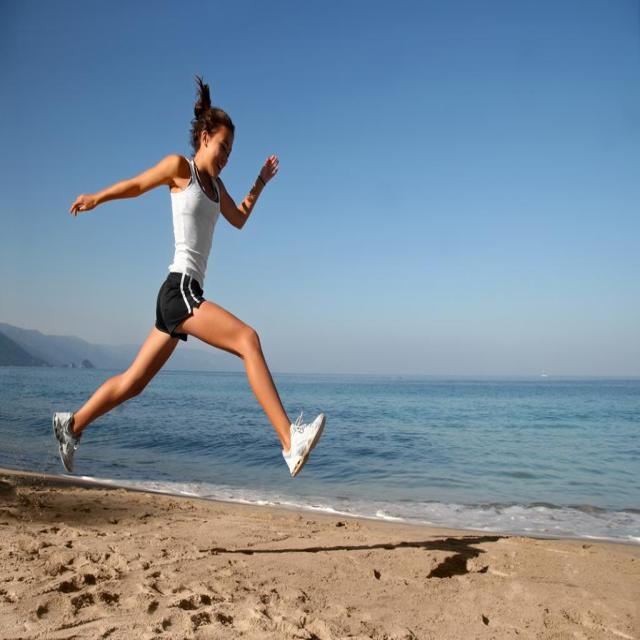Face: (198, 115, 240, 179)
